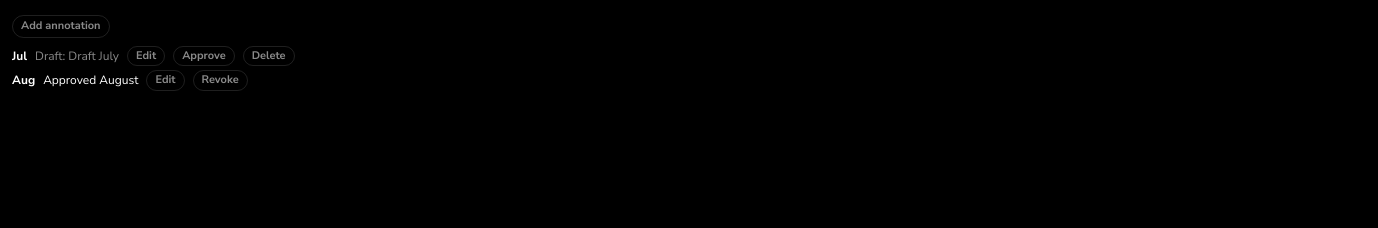
Test case: the line after a save says what the month had, and tells an approver where to approve
This screenshot has width=1378, height=228.
Click the button "Add annotation": (61, 26) [12,15,110,38]
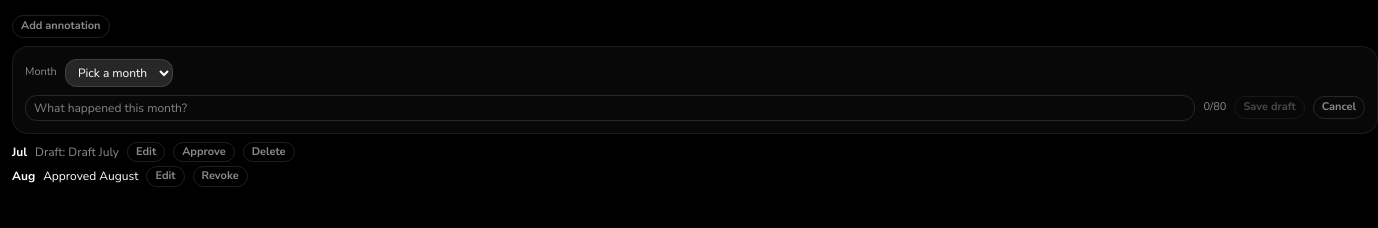
Select "Jul" in the dropdown labelled "Month": (119, 72) [65,58,173,86]
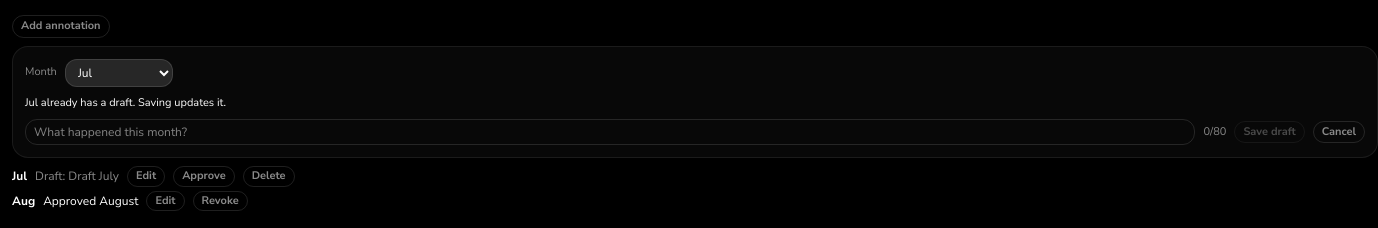
In the field named "Note text": (610, 132) [25,119,1196,145], type "Better"
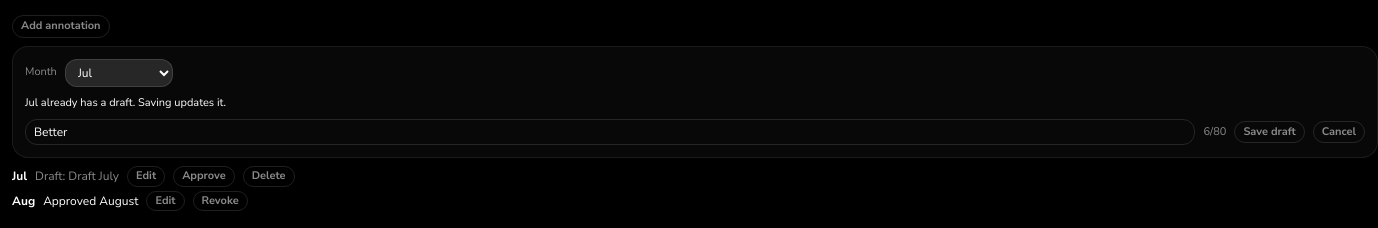
Click the button "Save draft": (1270, 132) [1234,121,1305,143]
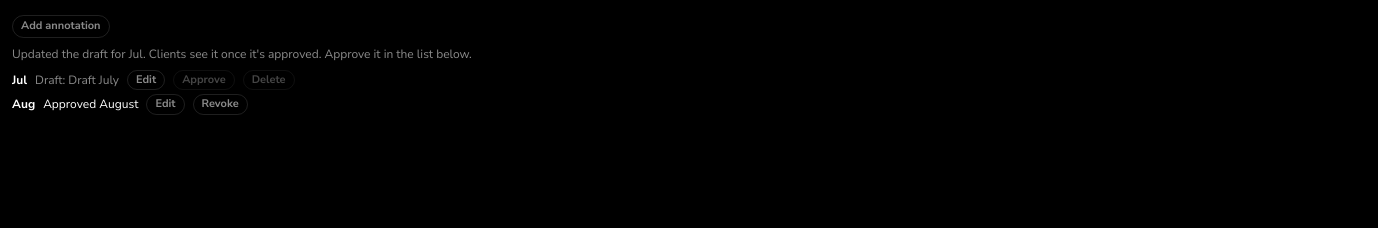
Now the message shows "Updated the draft for Jul. Clients see it once it's approved. Approve it in the list below.", box [12,46,472,62]
